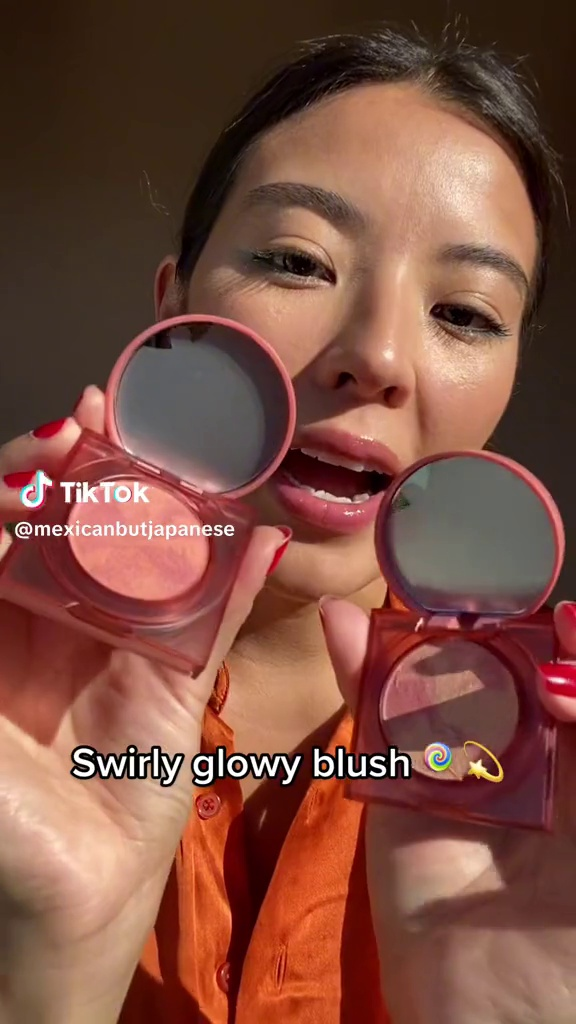train' :'yolo_data/train/images',: (0, 307, 294, 683), (335, 440, 569, 840)
